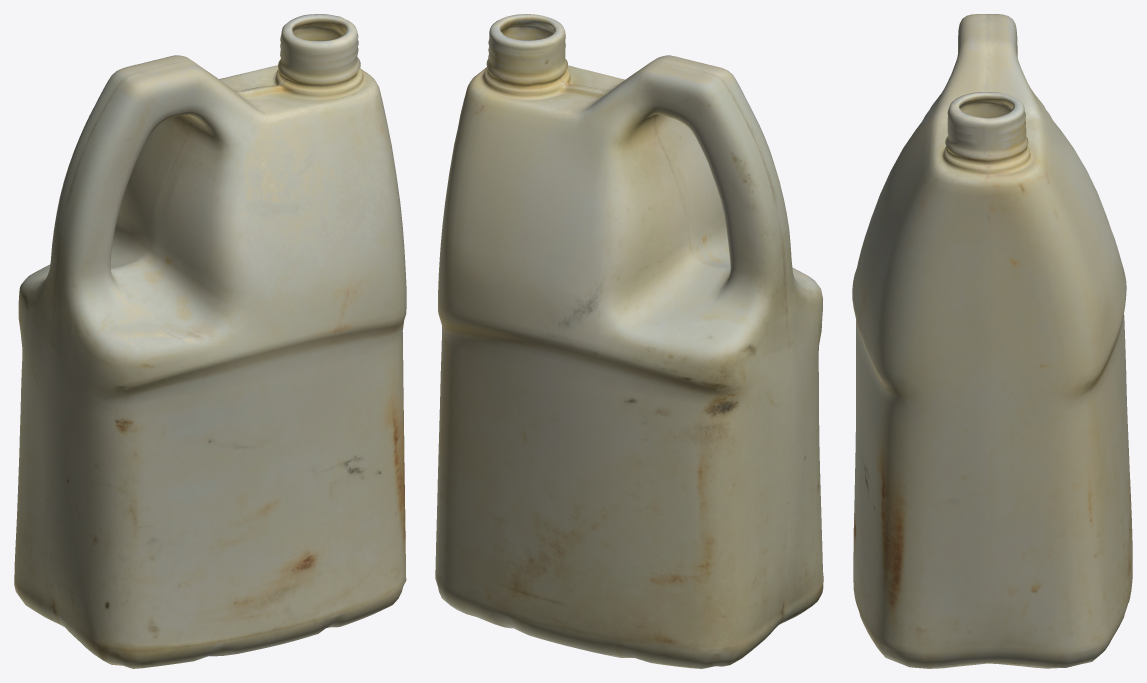
File: plastic_bottle_gallon.glb
The picture shows the model from 3 angles, left to right: view 1: azimuth 30°, elevation 25°; view 2: azimuth 150°, elevation 25°; view 3: azimuth 270°, elevation 25°; orthographic projection.
Parts seen in each view (by area): view 1: plastic_bottle_gallon; view 2: plastic_bottle_gallon; view 3: plastic_bottle_gallon.
Boxes of the visible parts, x1=… form: plastic_bottle_gallon: x1=14, y1=14, x2=406, y2=668; plastic_bottle_gallon: x1=435, y1=14, x2=823, y2=668; plastic_bottle_gallon: x1=852, y1=14, x2=1132, y2=668.
Size of the model in its own units: 0.1663 by 0.2745 by 0.1264.
Materials: 1 (1 with a texture image).
